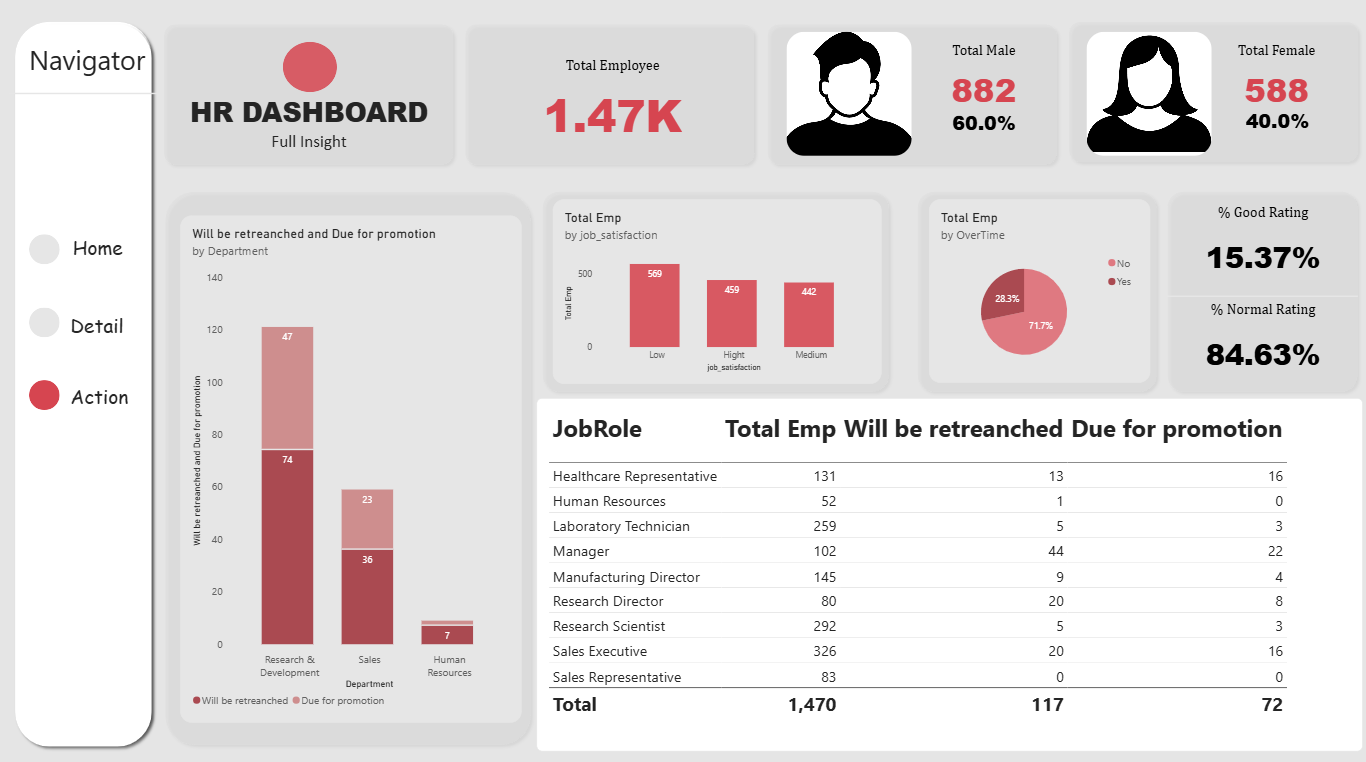

The page's visual inventory and layout, read from the dashboard file:
{"tool":"powerbi","page":{"name":"Action","canvas":[1920,1080],"ordinal":2},"visuals":[{"type":"shape","box":[14.5,25.3,208.1,1027.9],"z":0},{"type":"shape","box":[222.6,27.1,421.7,213.5],"z":1000},{"type":"shape","box":[644.2,27.1,421.7,213.5],"z":2000},{"type":"shape","box":[1065.9,27.1,421.7,213.5],"z":3000},{"type":"shape","box":[1487.5,25.3,421.7,213.5],"z":4000},{"type":"textbox","box":[175.5,132.1,517.6,260.6],"z":5000},{"type":"shape","box":[396.3,61.5,76,70.6],"z":6000},{"type":"cardVisual","title":"Total Male","fields":{"Data":["All mesures.Total Male"]},"box":[1221.5,61.5,311.3,162.9],"z":7000},{"type":"cardVisual","title":"Total Employee","fields":{"Data":["All mesures.Total Emp"]},"box":[703.1,82.4,311.3,121.2],"z":8000},{"type":"cardVisual","title":"Total Male","fields":{"Data":["All mesures.% Male"]},"box":[1237.8,133.9,280.5,146.6],"z":9000},{"type":"cardVisual","title":"Total Female","fields":{"Data":["All mesures.Total Female"]},"box":[1697.5,61.5,179.2,162.9],"z":10000},{"type":"cardVisual","title":"Total Male","fields":{"Data":["All mesures.% Female"]},"box":[1715.6,132.1,146.6,146.6],"z":11000},{"type":"image","box":[1102.1,47.1,175.5,173.7],"z":12000},{"type":"image","box":[1521.9,47.1,175.5,173.7],"z":13000},{"type":"shape","box":[224.4,262.4,528.4,790.8],"z":14000},{"type":"columnChart","fields":{"Category":["HR Analytics Data.Department"],"Y":["All mesures.Will be retreanched","All mesures.Due for promotion"]},"box":[253.4,304,477.8,709.4],"z":15000},{"type":"shape","box":[752.8,262.4,501.3,296.8],"z":16000},{"type":"columnChart","fields":{"Category":["HR Analytics Data.job_satisfaction"],"Y":["All mesures.Total Emp"]},"box":[774.5,282.3,459.7,258.8],"z":17000},{"type":"shape","box":[1275.8,262.4,351.1,296.8],"z":18000},{"type":"pieChart","fields":{"Category":["HR Analytics Data.OverTime"],"Y":["All mesures.Total Emp"]},"box":[1301.1,282.3,309.5,257],"z":19000},{"type":"tableEx","fields":{"Values":["HR Analytics Data.JobRole","All mesures.Total Emp","All mesures.Will be retreanched","All mesures.Due for promotion"]},"box":[752.8,559.2,1156.4,494],"z":20000},{"type":"shape","box":[1626.9,262.4,282.3,296.8],"z":21000},{"type":"shape","box":[1634.1,410.8,267.8,12.7],"z":22000},{"type":"cardVisual","title":"% Good Rating","fields":{"Data":["All mesures.% Good Rating"]},"box":[1646.8,285.9,242.5,106.8],"z":23000},{"type":"cardVisual","title":"% Normal Rating","fields":{"Data":["All mesures.% Normal Rating"]},"box":[1646.8,423.5,242.5,106.8],"z":24000},{"type":"shape","box":[14.5,27.1,208.1,1027.9],"z":24001},{"type":"pageNavigator","box":[41.6,331.2,43.4,247.9],"z":24002},{"type":"textbox","box":[103.2,331.2,88.7,61.5],"z":24003},{"type":"textbox","box":[99.5,439.7,300.4,99.5],"z":24004},{"type":"textbox","box":[99.5,539.3,300.4,88.7],"z":24005},{"type":"textbox","box":[41.6,61.5,181,72.4],"z":24006},{"type":"shape","box":[14.5,114,208.1,39.8],"z":24007}]}

Visuals, with their boxes in screenshot pixels (x1, y1, x2, y2), scaled from the page's 1920x1080 canvas onto the 1366x762 screenshot:
shape: <region>10, 18, 158, 743</region>
shape: <region>158, 19, 458, 170</region>
shape: <region>458, 19, 758, 170</region>
shape: <region>758, 19, 1058, 170</region>
shape: <region>1058, 18, 1358, 168</region>
textbox: <region>125, 93, 493, 277</region>
shape: <region>282, 43, 336, 93</region>
"Total Male" cardVisual: <region>869, 43, 1091, 158</region>
"Total Employee" cardVisual: <region>500, 58, 722, 144</region>
"Total Male" cardVisual: <region>881, 94, 1080, 198</region>
"Total Female" cardVisual: <region>1208, 43, 1335, 158</region>
"Total Male" cardVisual: <region>1221, 93, 1325, 197</region>
image: <region>784, 33, 909, 156</region>
image: <region>1083, 33, 1208, 156</region>
shape: <region>160, 185, 536, 743</region>
columnChart - HR Analytics Data.Department x All mesures.Will be retreanched: <region>180, 214, 520, 715</region>
shape: <region>536, 185, 892, 395</region>
columnChart - HR Analytics Data.job_satisfaction x All mesures.Total Emp: <region>551, 199, 878, 382</region>
shape: <region>908, 185, 1157, 395</region>
pieChart - HR Analytics Data.OverTime x All mesures.Total Emp: <region>926, 199, 1146, 381</region>
tableEx - HR Analytics Data.JobRole x All mesures.Total Emp: <region>536, 395, 1358, 743</region>
shape: <region>1157, 185, 1358, 395</region>
shape: <region>1163, 290, 1353, 299</region>
"% Good Rating" cardVisual: <region>1172, 202, 1344, 277</region>
"% Normal Rating" cardVisual: <region>1172, 299, 1344, 374</region>
shape: <region>10, 19, 158, 744</region>
pageNavigator: <region>30, 234, 60, 409</region>
textbox: <region>73, 234, 137, 277</region>
textbox: <region>71, 310, 285, 380</region>
textbox: <region>71, 381, 285, 443</region>
textbox: <region>30, 43, 158, 94</region>
shape: <region>10, 80, 158, 109</region>
